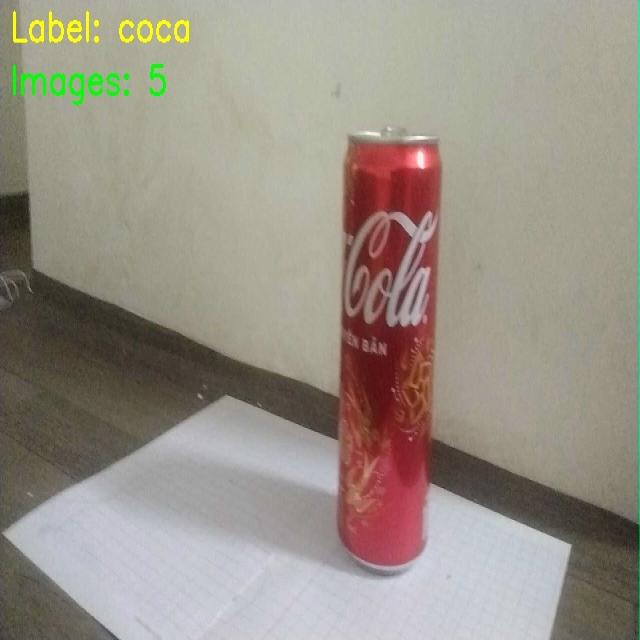Coca: (299, 88, 467, 622)
